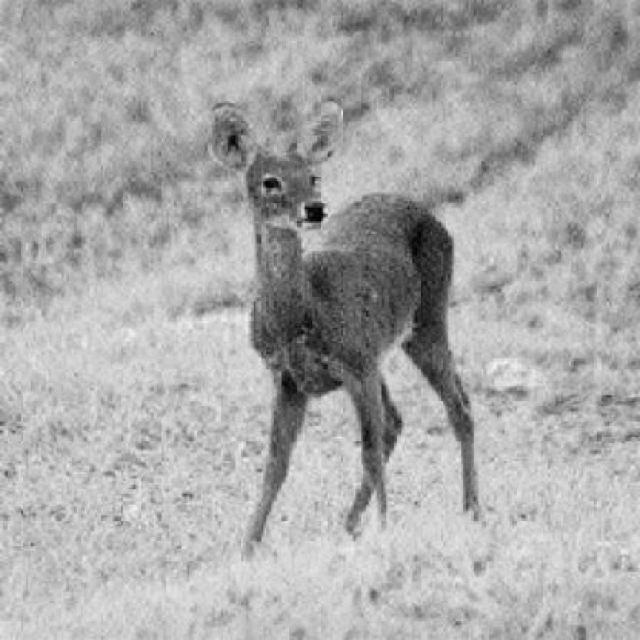Deer: (198, 97, 507, 558)
